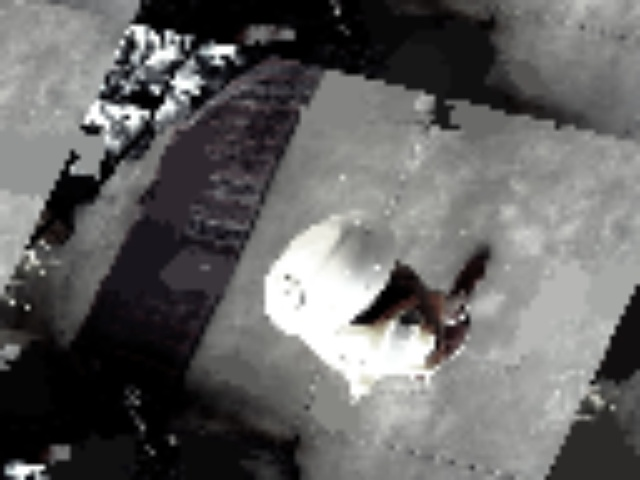three: (263, 273, 312, 312)
